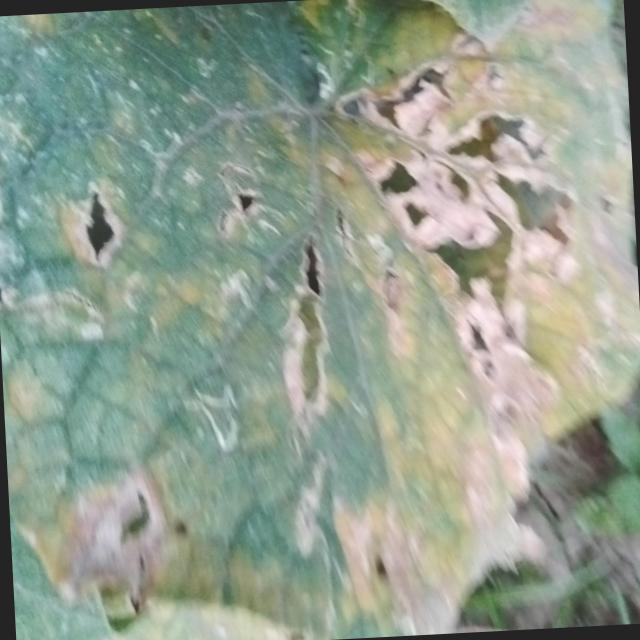cucumber_anthracnose: (0, 10, 635, 640)
